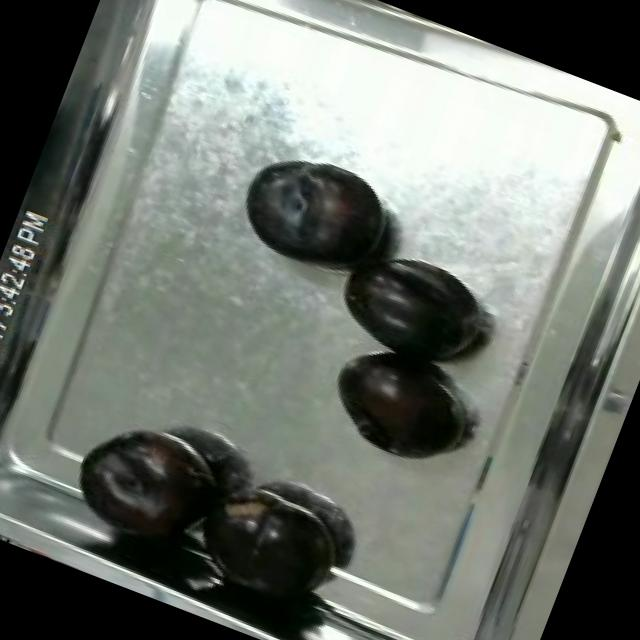Fruit: (221, 132, 412, 296), (58, 393, 246, 553), (319, 231, 498, 383), (310, 328, 478, 478)
